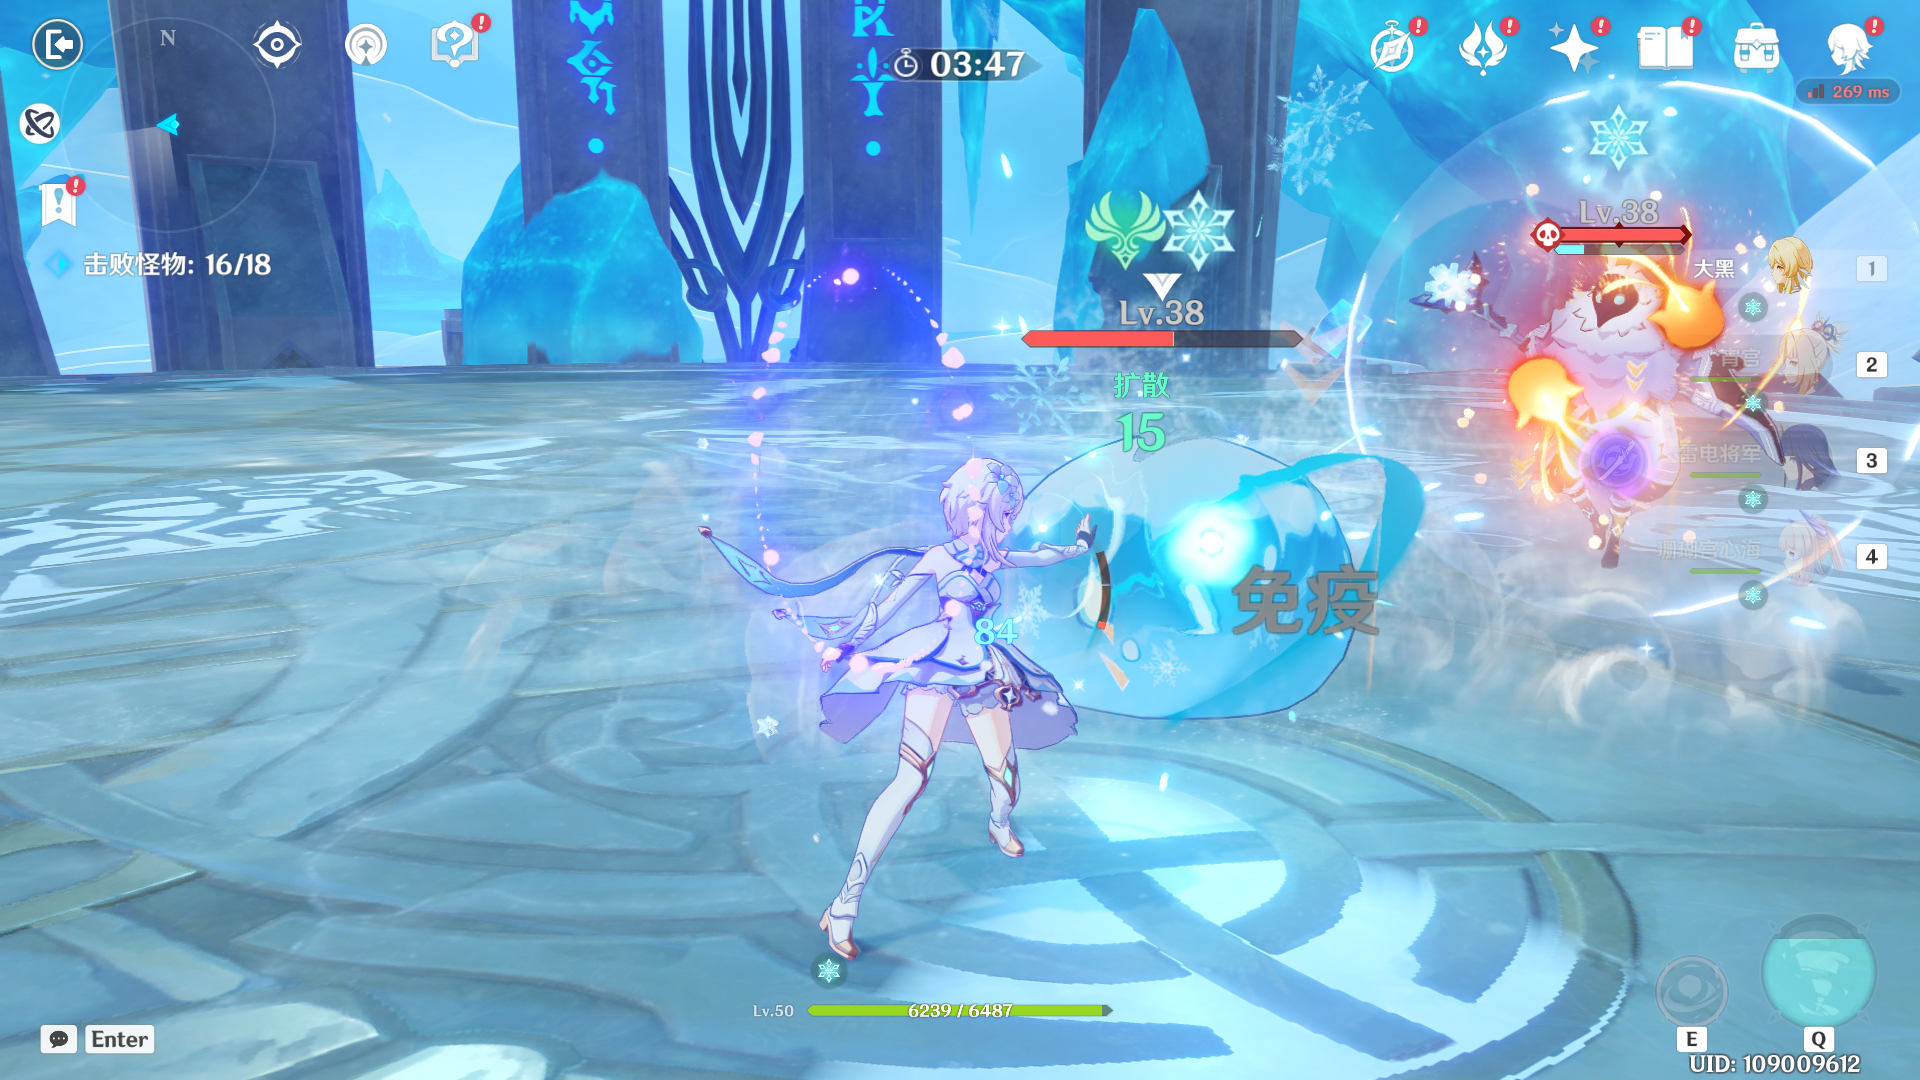caster: (1393, 198, 1793, 613)
character: (688, 423, 1108, 975)
slime: (955, 388, 1387, 756)
